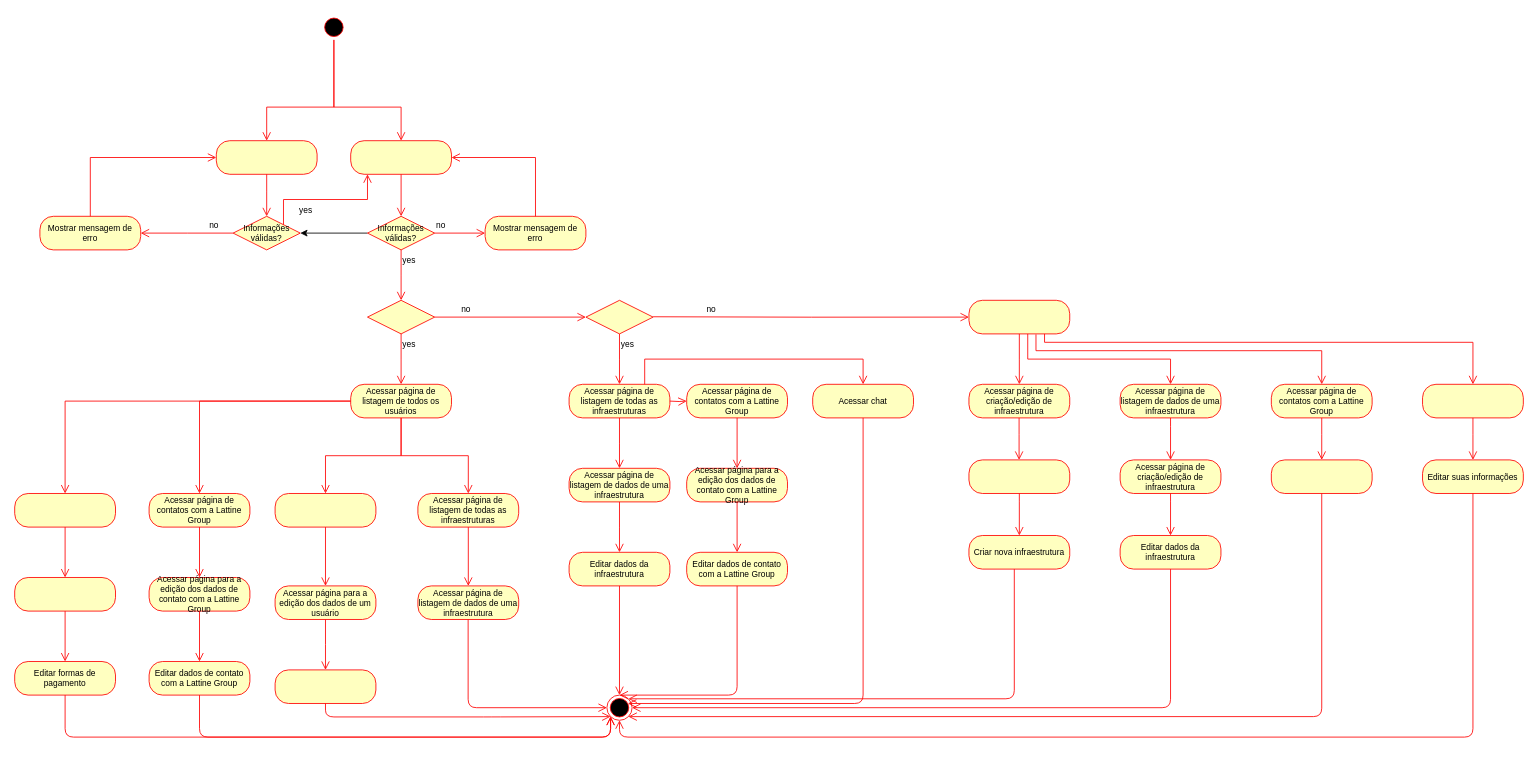
The diagram is 1538 pixels wide and 760 high, and some of its shapes have lost their labels. The shapes that lost their labels are listed below. From the top down, each one's centre as x and y in pixels, then its label:
the point at 266,157: Acessar página de cadastro de usuário
the point at 401,157: Efetuar Login
the point at 401,316: Usuário logado é administrador?
the point at 619,316: Usuário logado é funcionário da Lattine Group?
the point at 1019,316: Acessar página de listagem de todas as suas infraestruturas
the point at 1472,400: Acessar página de listagem de todas as suas informações
the point at 1019,476: Acessar tela de pagamento
the point at 1321,476: Acessar chat de contato com a Lattine Group
the point at 65,510: Acessar página de formas de pagamento
the point at 325,510: Acessar página de listagem de dados de um usuário
the point at 65,594: Acessar página para a edição das formas de pagamento
the point at 325,686: Editar dados de um usuário
